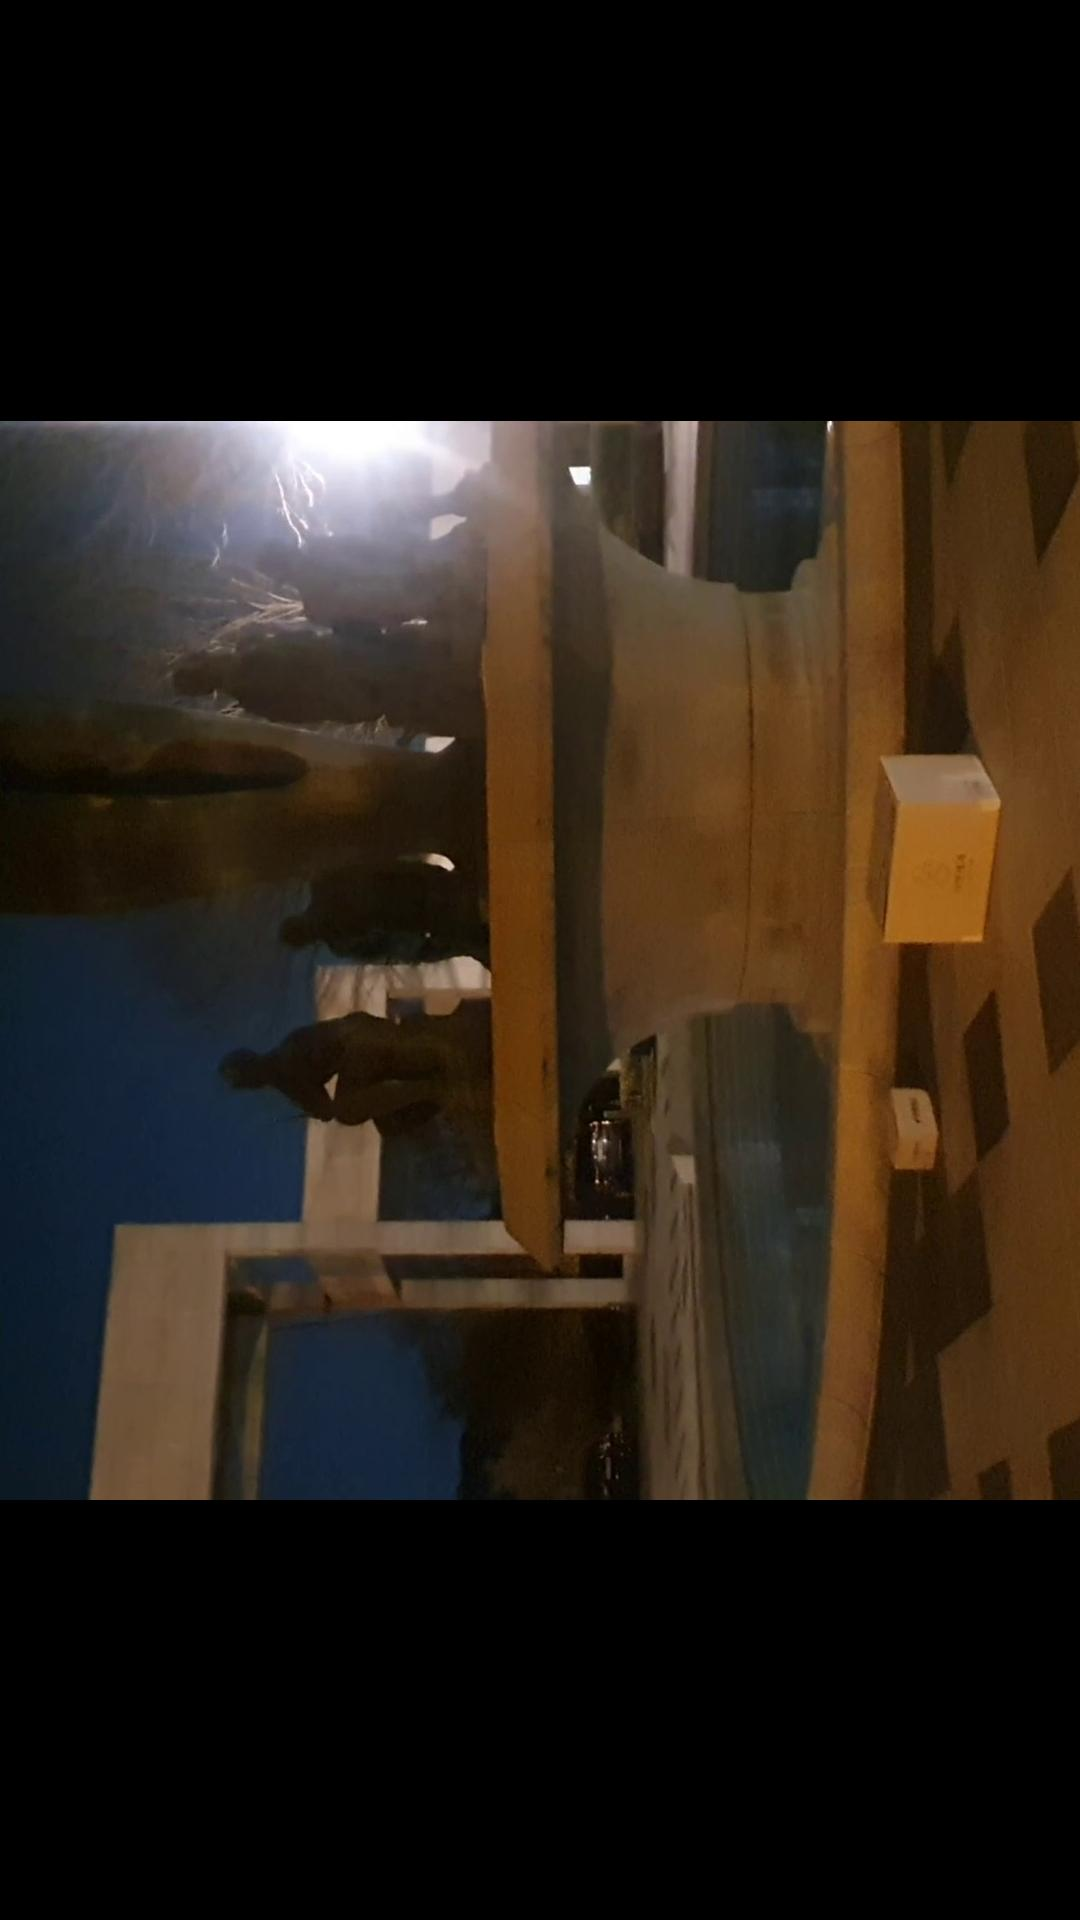Box: (840, 746, 1002, 957), (868, 1080, 945, 1199)
